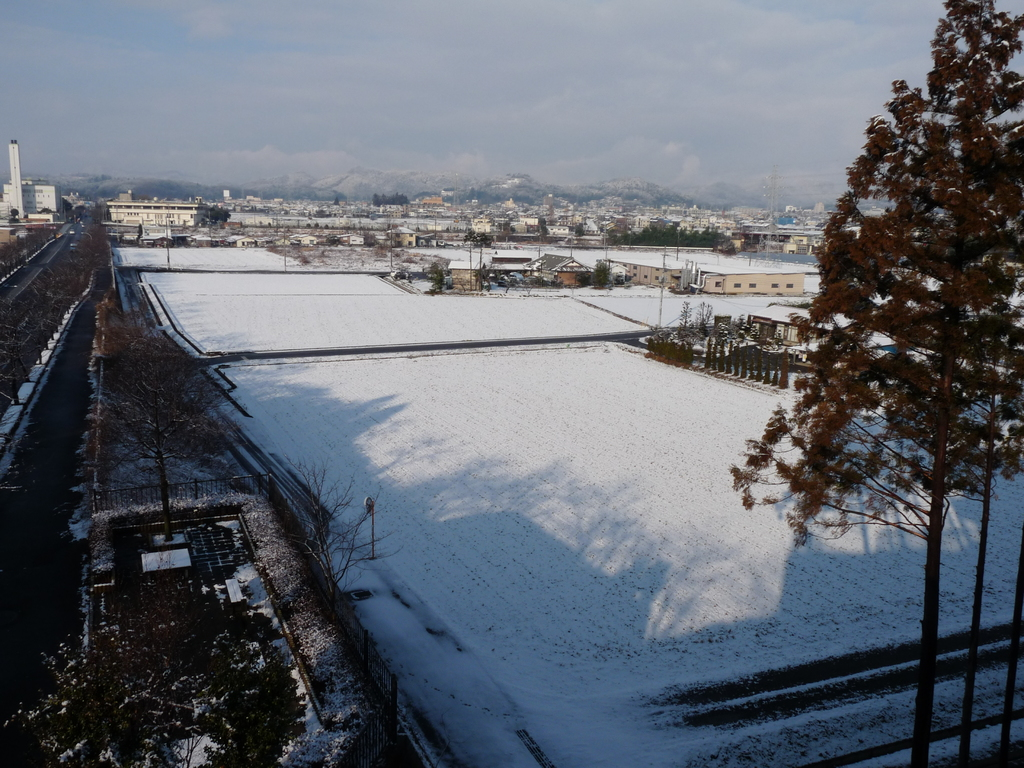Tree: (699, 133, 977, 679)
